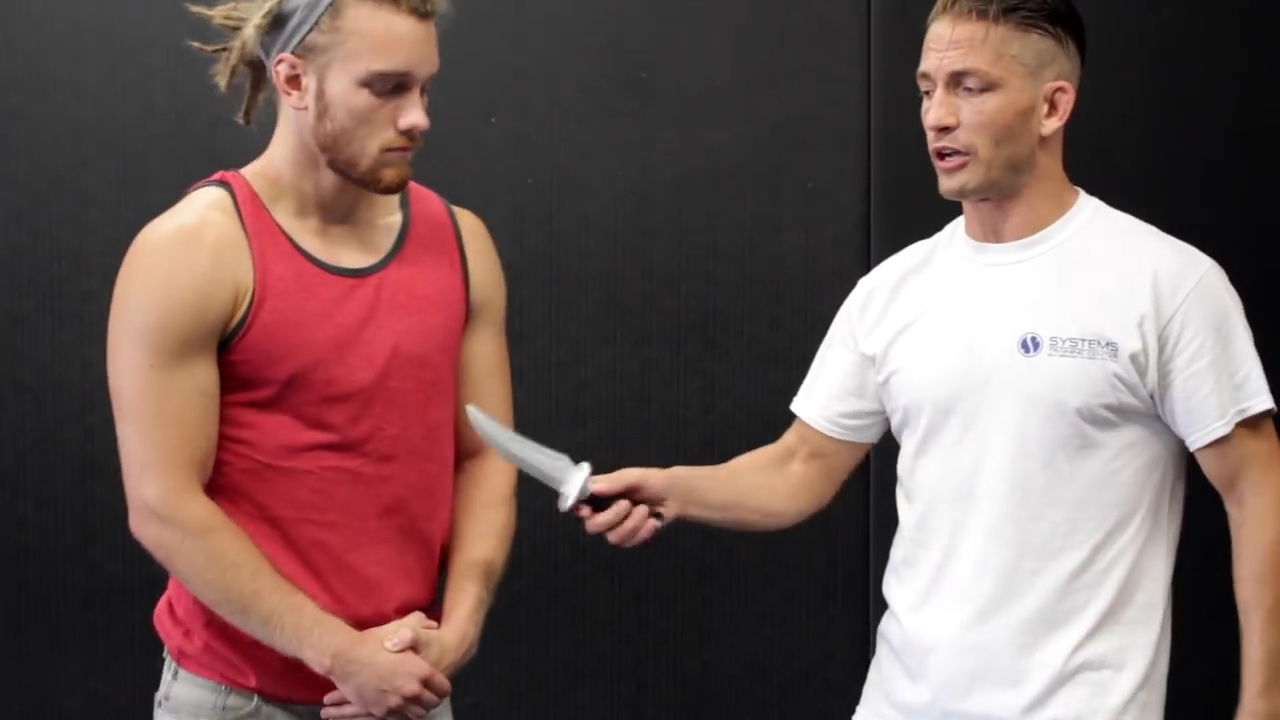knife: (456, 394, 669, 545)
